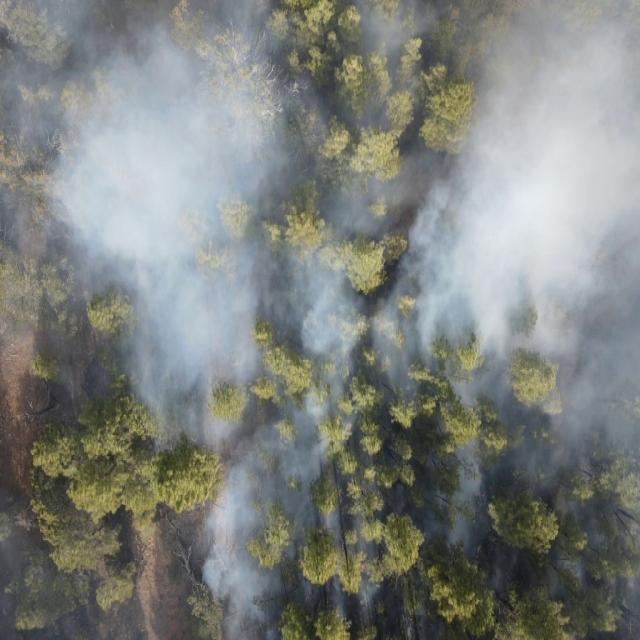smoke: (0, 0, 640, 401), (203, 450, 640, 640), (145, 401, 640, 451), (0, 511, 83, 640)
